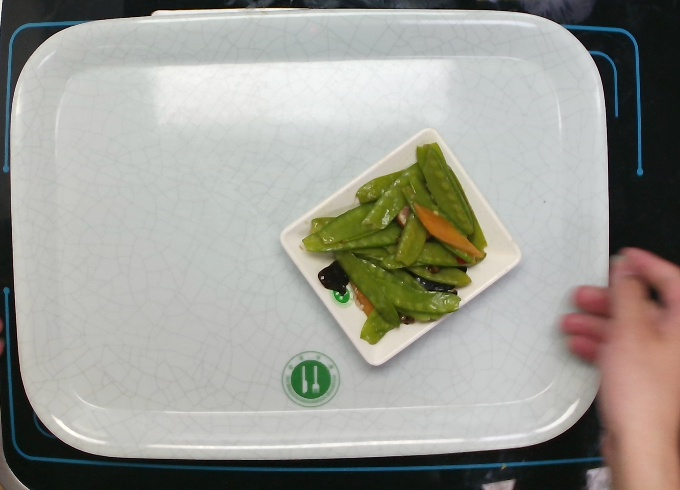WCQzf-Bai_Se_Si_Fang_Die: (276, 124, 529, 370)
